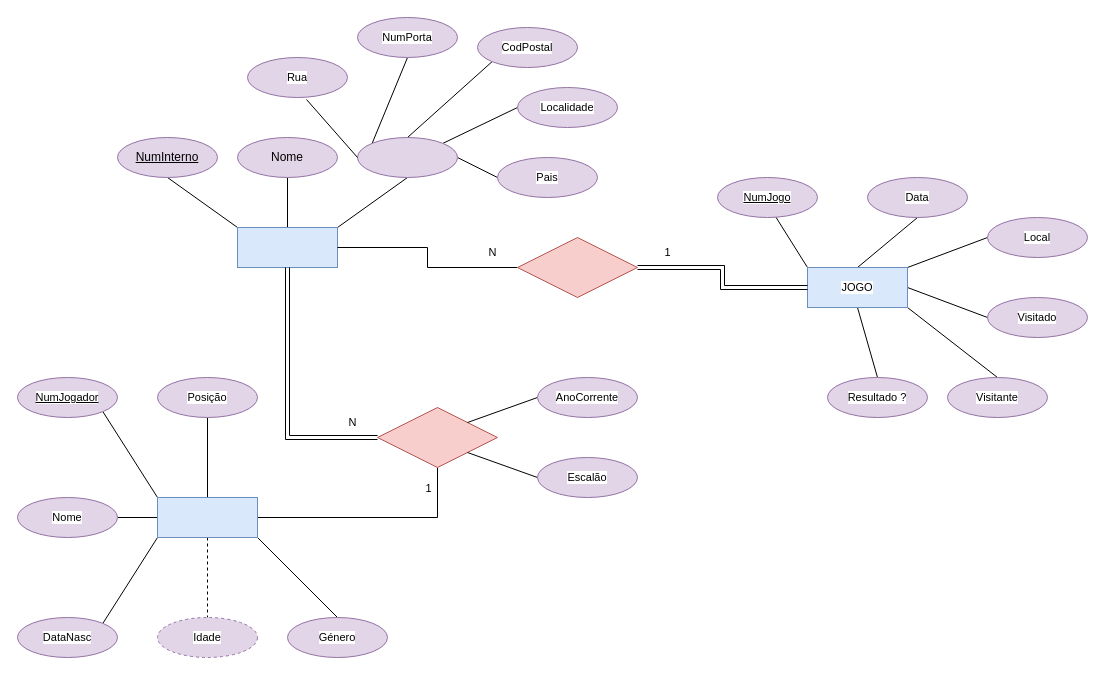
This 1105x675 diagram has some shape labels left out. Each missing label, with the box of its shape:
EQUIPA: (236, 226, 338, 268)
FILIADO_A: (376, 406, 498, 468)
JOGADOR: (156, 496, 258, 538)
JOGOU: (516, 236, 638, 298)
Morada: (356, 136, 458, 178)
